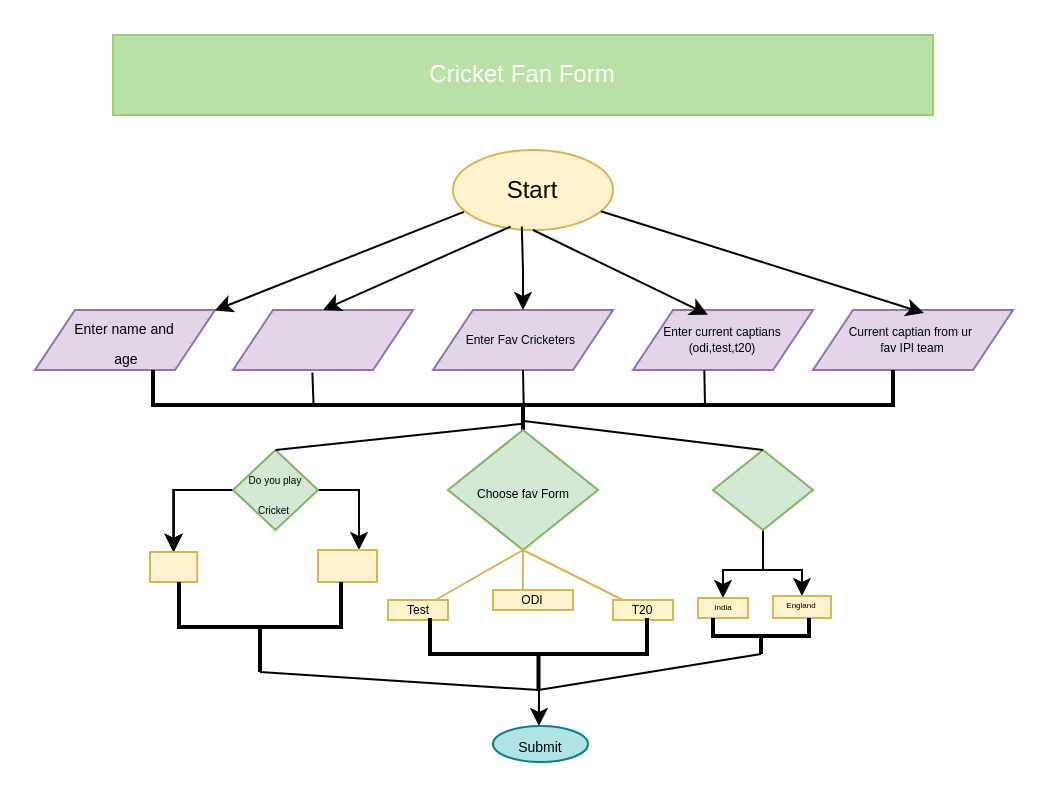
Image size: 1048x798. Some labels were removed from this diagram. Here are the shapes that lost their labels. From the top down, the box of each, then its label:
(231, 308, 413, 370): Enter country
(711, 448, 813, 530): Who won ind vs eng 5th test match
(148, 550, 197, 582): Yes
(316, 548, 377, 582): No
